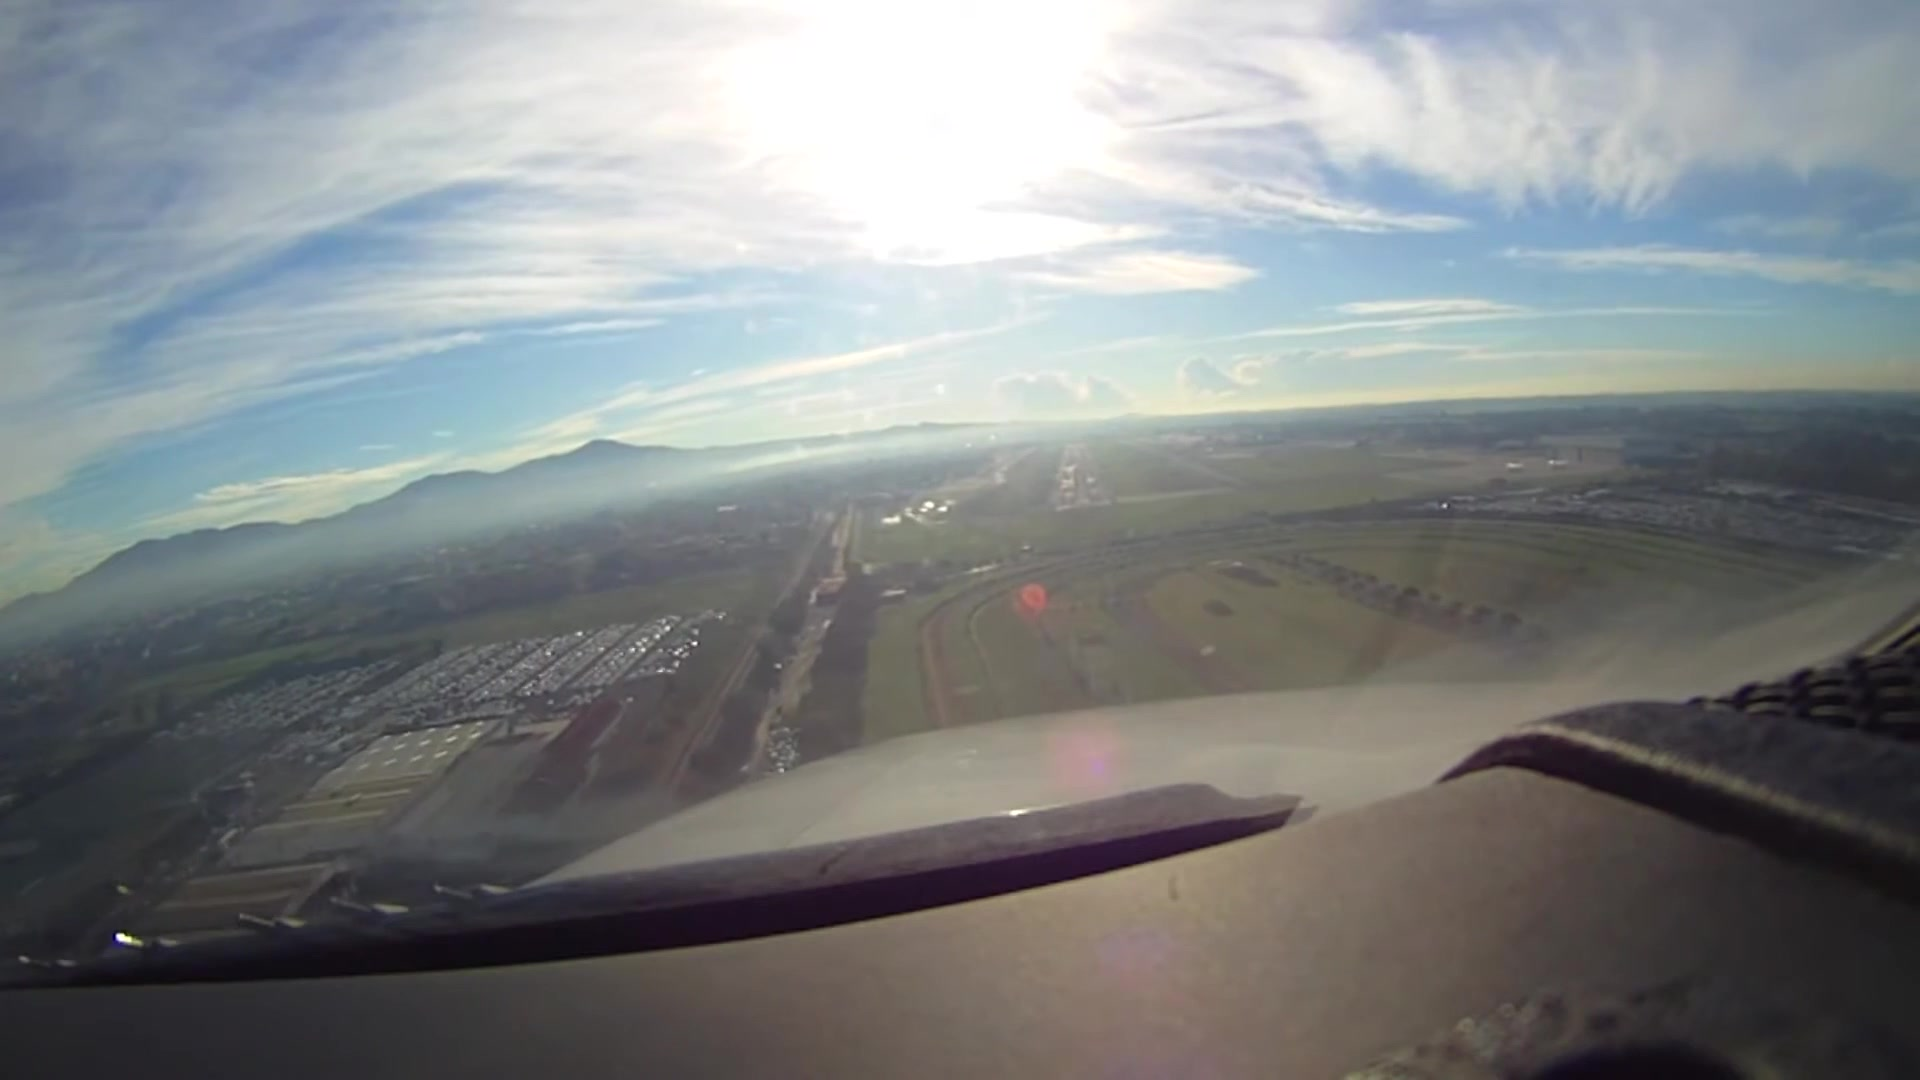runway: (1051, 443, 1112, 512)
